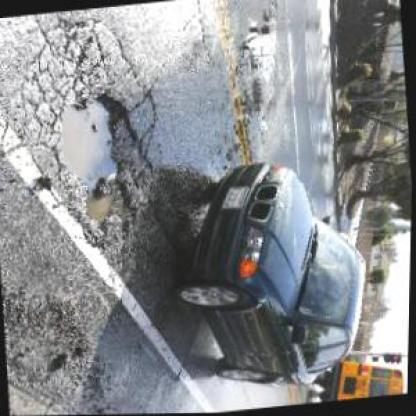pothole: (54, 92, 148, 242)
